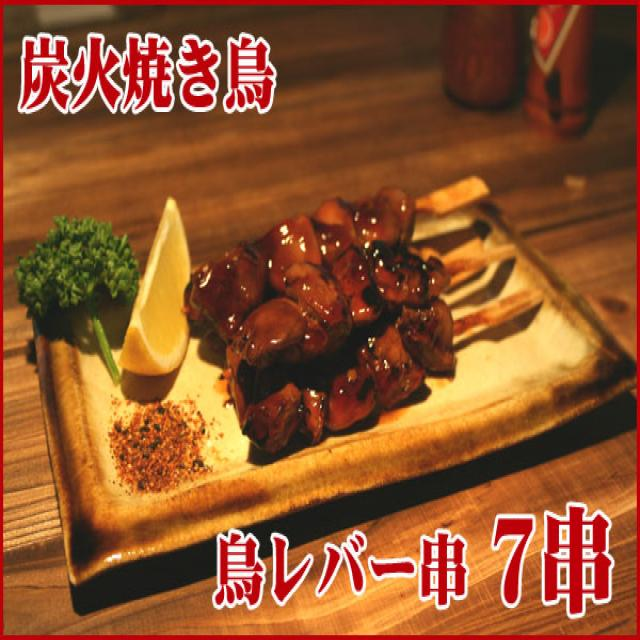烧串烤肉: (125, 240, 396, 640)
